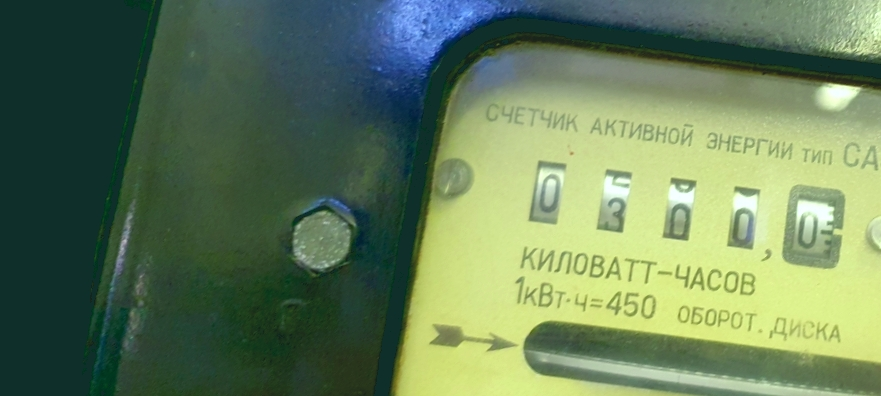0: (536, 167, 564, 216), (729, 202, 758, 249), (793, 206, 822, 251), (665, 198, 693, 241)
3: (601, 192, 628, 233)
screen: (505, 134, 869, 287)
